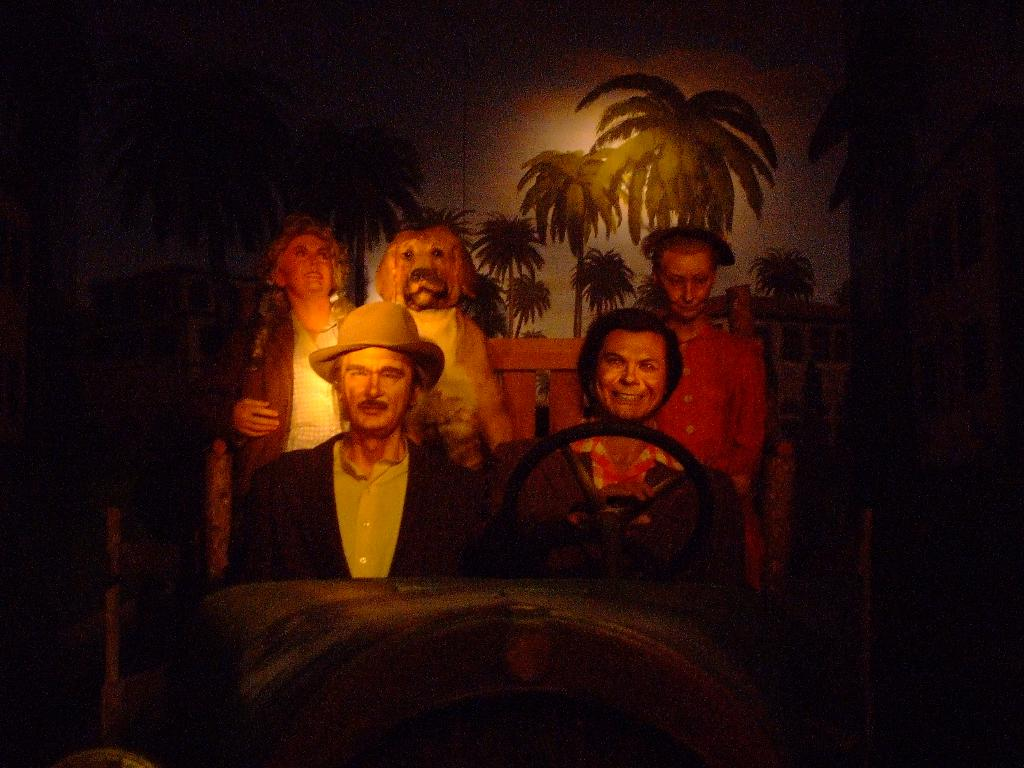Tree: (436, 158, 637, 344), (577, 72, 771, 241), (289, 135, 424, 259), (750, 246, 808, 303)
